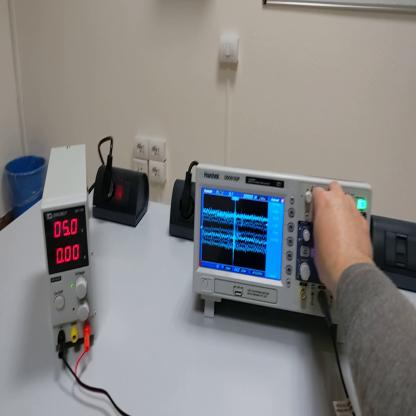hand: (311, 179, 375, 289)
oscilloscope: (190, 162, 373, 328)
power supply: (41, 146, 96, 354)
socket: (91, 166, 152, 231), (170, 173, 196, 244)
